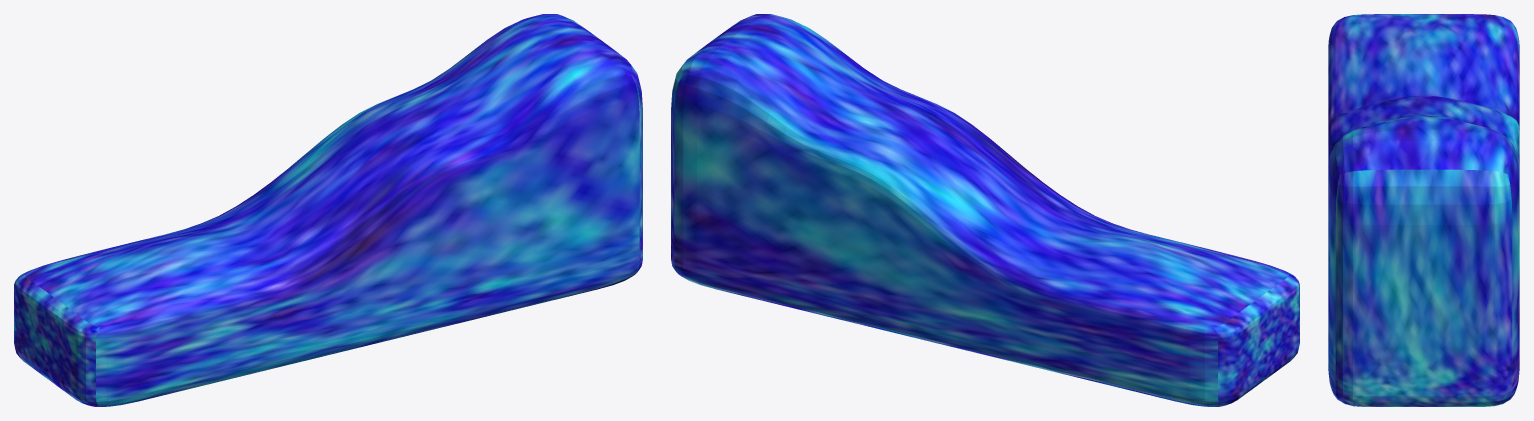
File: Platf3.fbx
The picture shows the model from 3 angles, left to right: view 1: azimuth 30°, elevation 25°; view 2: azimuth 150°, elevation 25°; view 3: azimuth 270°, elevation 25°; orthographic projection. The views are drawn at different scales.
Visible parts, largest first — view 1: Cube; view 2: Cube; view 3: Cube.
Part boxes in pixels (box(x1,y1,x2,y2)): Cube: box(14, 14, 642, 406); Cube: box(671, 14, 1299, 406); Cube: box(1328, 14, 1519, 406).
Bounding box in the file's own units: 2335 × 906 × 609.
